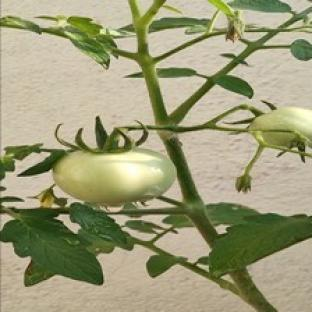Tomato: (53, 148, 176, 206), (250, 108, 311, 147)
